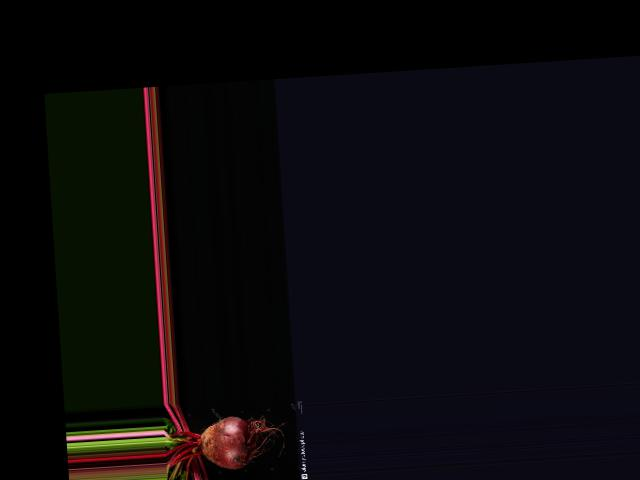beet: (163, 412, 293, 480)
